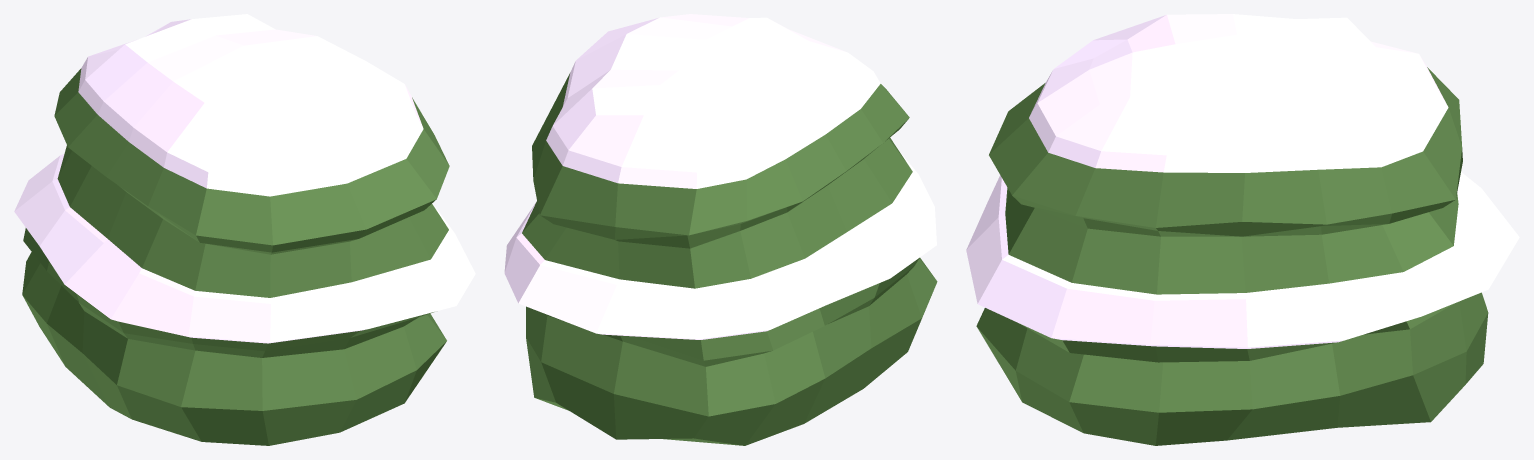
The model's file is Bush_Snow_1.glb.
3 renders of one model, left to right at view 1: azimuth 30°, elevation 25°; view 2: azimuth 150°, elevation 25°; view 3: azimuth 270°, elevation 25°, orthographic. The views are drawn at different scales.
Visible parts, largest first — view 1: Bush_Snow_1; view 2: Bush_Snow_1; view 3: Bush_Snow_1.
Boxes of the visible parts, x1=… form: Bush_Snow_1: x1=14, y1=14, x2=475, y2=445; Bush_Snow_1: x1=504, y1=14, x2=937, y2=445; Bush_Snow_1: x1=966, y1=14, x2=1519, y2=445.
Bounding box in the file's own units: 139 × 128 × 178.
